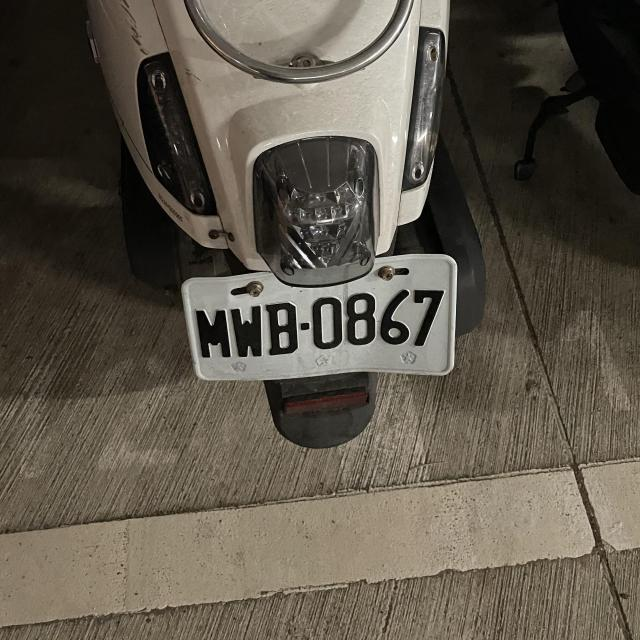W: (177, 255, 459, 385)
